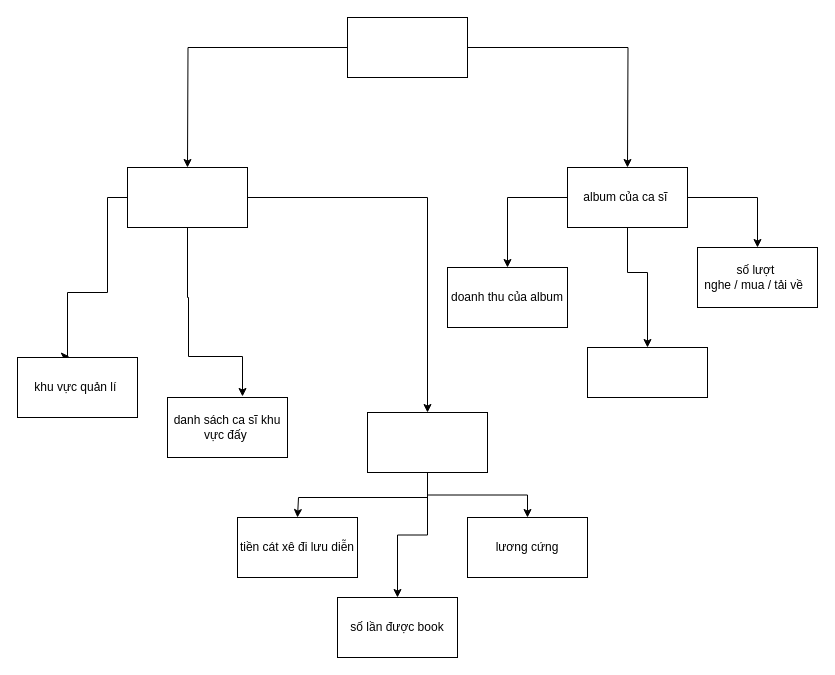
Image size: 835x675. Some labels were removed from this diagram. Each missing label, with the box of its shape:
bảng xếp hạng ca sĩ trong năm: (366, 412, 488, 472)
hit trong năm: (586, 346, 708, 398)
quản lí ca sĩ: (346, 16, 468, 78)
quản lí của ca sĩ: (126, 166, 248, 228)
